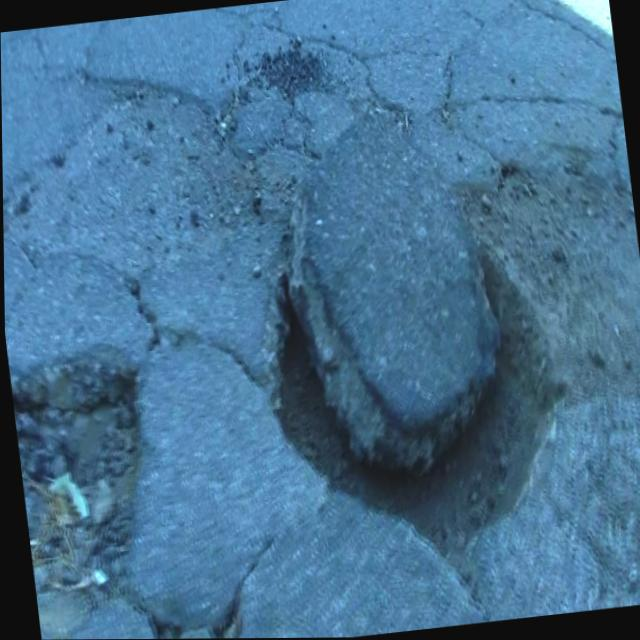Pothole: (255, 147, 579, 611), (10, 336, 152, 605)
